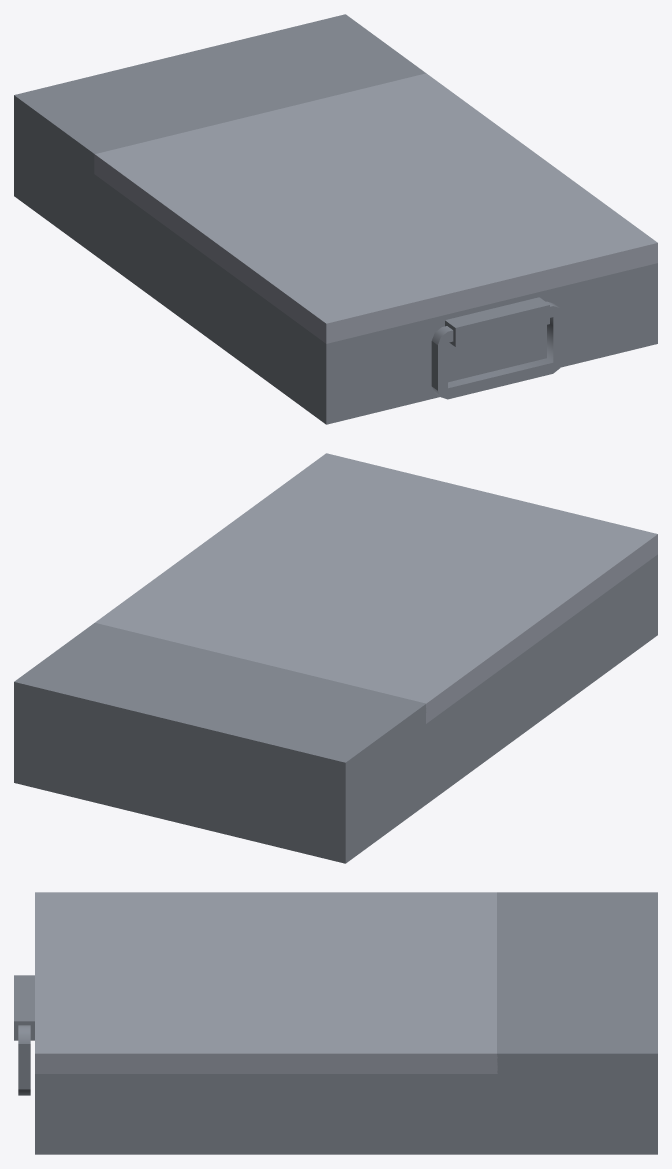
Rendered from Prop_SafeDepositBox_Container_02.glb.
3 renders of one model, top to bottom at view 1: azimuth 30°, elevation 25°; view 2: azimuth 150°, elevation 25°; view 3: azimuth 270°, elevation 25°, orthographic.
Parts seen in each view (by area): view 1: SM_Prop_SafeDepositBox_Container_Lid_01.001, SM_Prop_SafeDepositBox_Container_02; view 2: SM_Prop_SafeDepositBox_Container_02, SM_Prop_SafeDepositBox_Container_Lid_01.001; view 3: SM_Prop_SafeDepositBox_Container_Lid_01.001, SM_Prop_SafeDepositBox_Container_02.
Boxes of the visible parts, x1,y1,x2,y2 form: SM_Prop_SafeDepositBox_Container_Lid_01.001: [94, 73, 657, 343]; SM_Prop_SafeDepositBox_Container_02: [14, 14, 657, 424]; SM_Prop_SafeDepositBox_Container_02: [14, 554, 657, 863]; SM_Prop_SafeDepositBox_Container_Lid_01.001: [95, 453, 657, 723]; SM_Prop_SafeDepositBox_Container_Lid_01.001: [35, 892, 497, 1073]; SM_Prop_SafeDepositBox_Container_02: [14, 892, 657, 1154].
Bounding box in the file's own units: 0.5362 × 0.1561 × 0.9044.
1 material, 1 textured.
